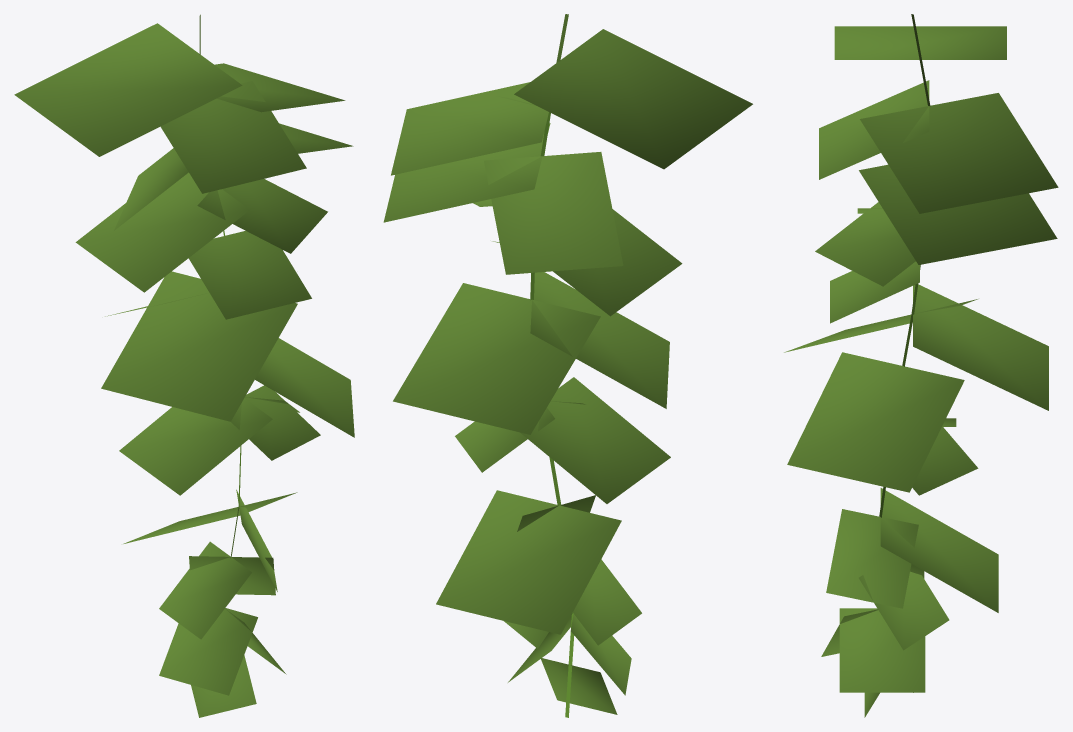
Rendered from Vine2.fbx.
3 views of the same model, side by side, from view 1: azimuth 30°, elevation 25°; view 2: azimuth 150°, elevation 25°; view 3: azimuth 270°, elevation 25° (orthographic). The views are drawn at different scales.
Parts seen in each view (by area): view 1: NurbsPath.023; view 2: NurbsPath.023; view 3: NurbsPath.023.
Boxes of the visible parts, bbox=[...] form: NurbsPath.023: bbox=[14, 14, 354, 717]; NurbsPath.023: bbox=[383, 14, 752, 717]; NurbsPath.023: bbox=[784, 14, 1058, 717].
Bounding box in the file's own units: 133 × 292 × 106.
